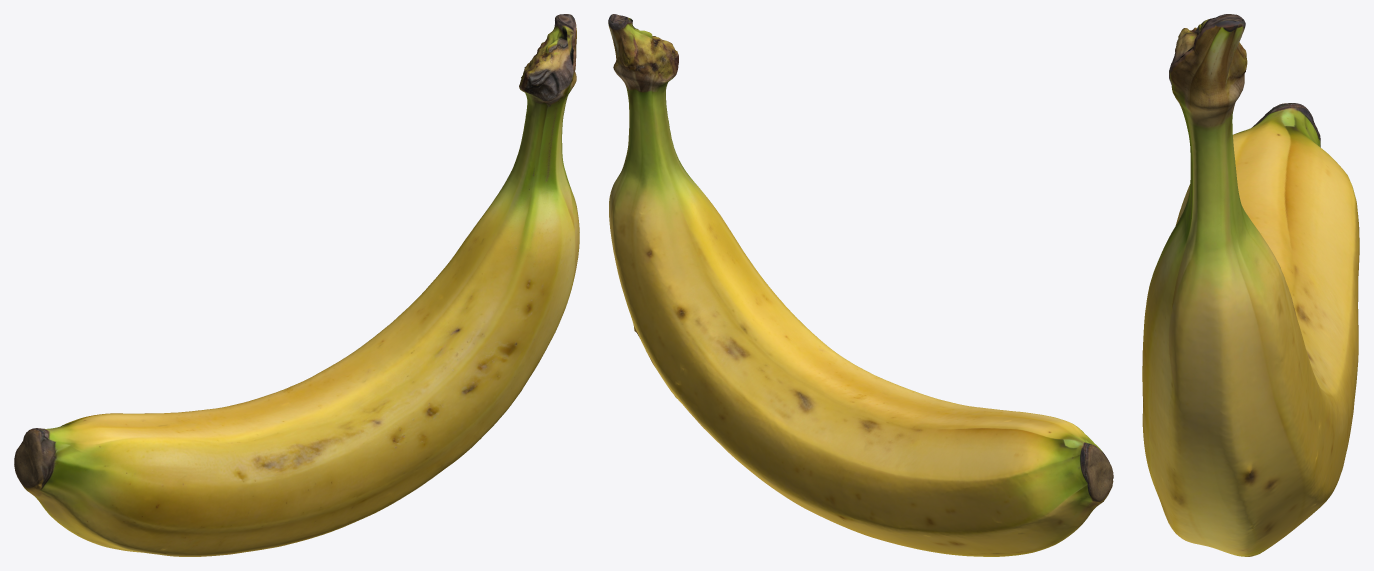
Rendered from banana.glb.
3 views of the same model, side by side, from view 1: azimuth 30°, elevation 25°; view 2: azimuth 150°, elevation 25°; view 3: azimuth 270°, elevation 25° (orthographic). The views are drawn at different scales.
Size of the model in its own units: 2 by 1.66 by 0.4663.
1 material, 1 textured.
